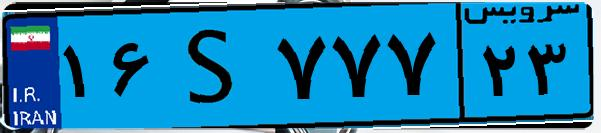1: (57, 26, 110, 100)
2: (475, 38, 525, 113)
3: (525, 38, 570, 115)
6: (110, 28, 158, 98)
7: (270, 28, 330, 110), (385, 28, 445, 110), (330, 28, 385, 110)
S: (158, 12, 270, 120)
